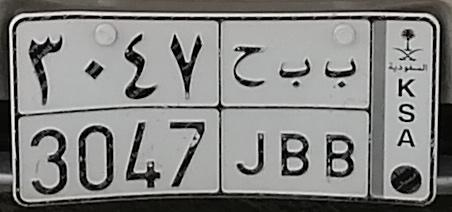0: (77, 59, 116, 193)
3: (29, 32, 70, 196)
4: (122, 31, 161, 189)
7: (168, 32, 206, 189)
B: (323, 57, 358, 179), (278, 58, 311, 179)
J: (231, 45, 265, 177)
